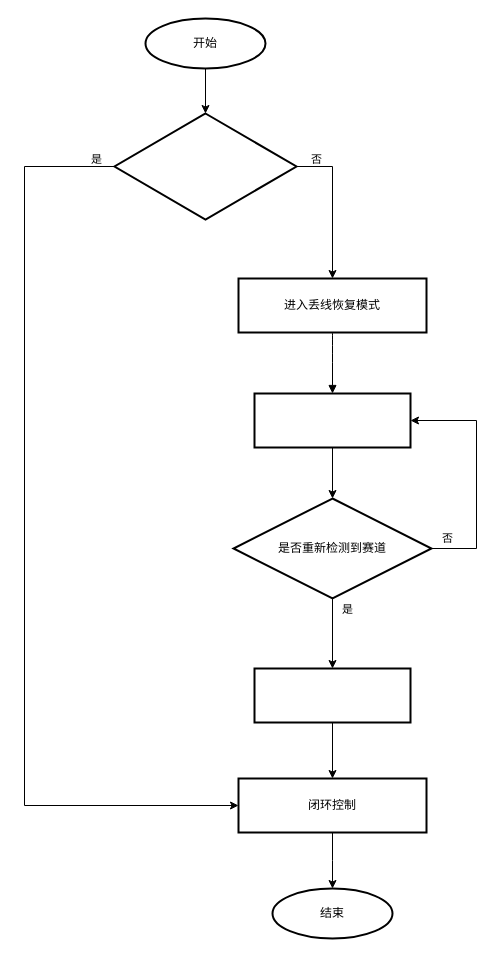
The diagram is 502 pixels wide and 956 high, and some of its shapes have lost their labels. Each missing label, with the box of its shape:
执行搜线动作: (253, 392, 411, 448)
赛道信息是否有效: (113, 112, 297, 220)
退出恢复模式: (253, 667, 411, 723)
